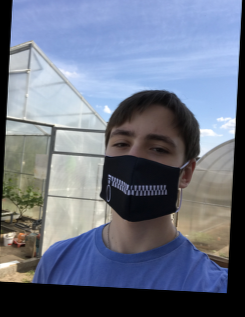with_mask: (99, 122, 185, 222)
